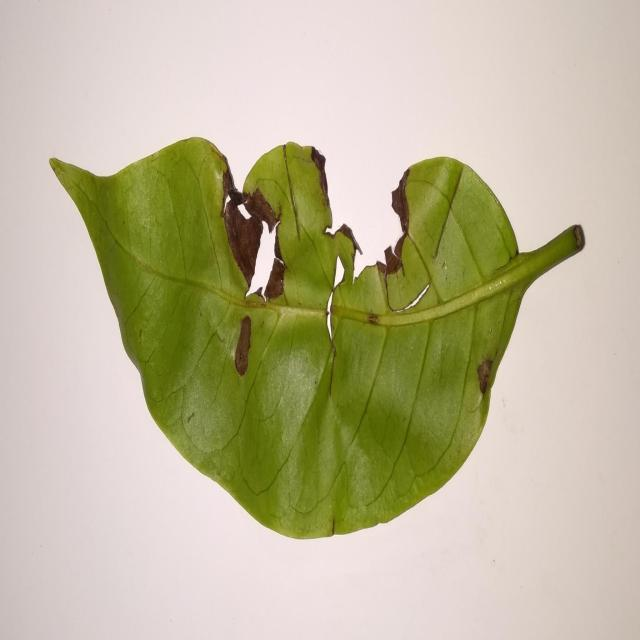Enfermedad-Antracnosis: (48, 138, 586, 542)
